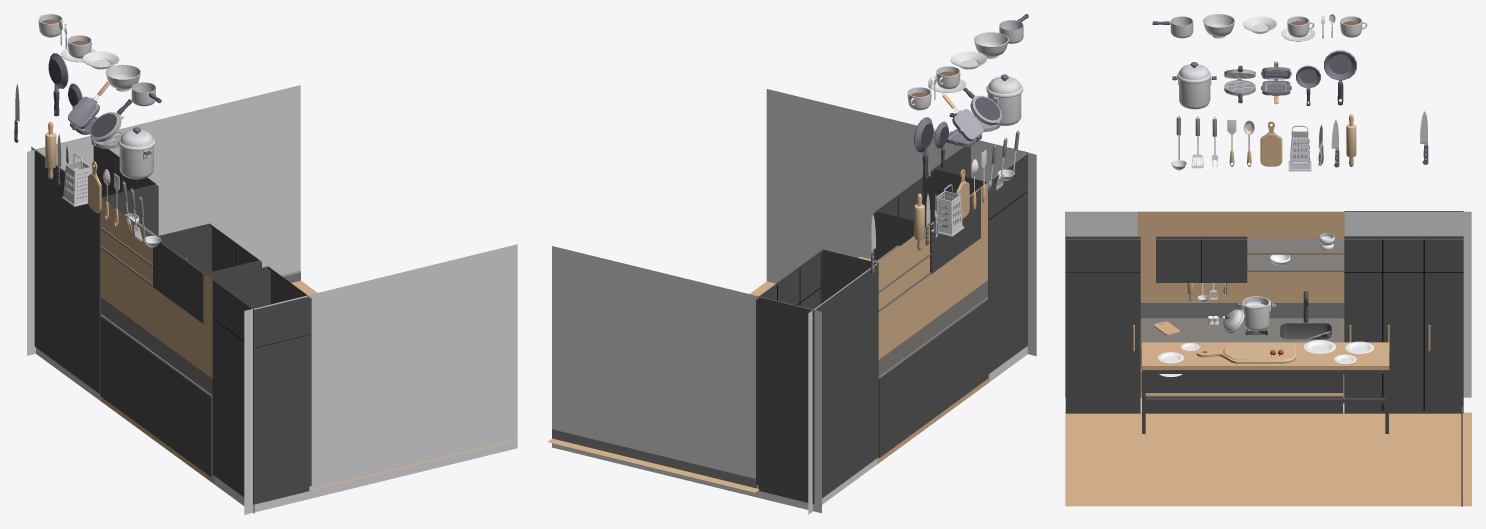
File: kitchen2.glb
3 views of the same model, side by side, from view 1: azimuth 30°, elevation 25°; view 2: azimuth 150°, elevation 25°; view 3: azimuth 270°, elevation 25° (orthographic). The views are drawn at different scales.
Parts seen in each view (by area): view 1: ROOM, fridge, cupboard_big, cupboard_down, cupboard_up, board, grater, pan, baking form top, grill-barbecue top, bowl1, Big frying pan (+3 smaller); view 2: ROOM, cupboard_big, cupboard_down, fridge, cupboard_up, baseboard, board, grater, baking form top, grill-barbecue top, bowl1, a mug1 (+3 smaller); view 3: ROOM, cupboard_big, fridge, cupboard_down, Cube.001, cupboard_up, board, board__0.001, shelf_up, shelf_down, Big frying pan, pan (+12 smaller).
Part boxes in pixels (box(x1,y1,x2,y2)): ROOM: box(27, 85, 518, 514); fridge: box(212, 266, 311, 504); cupboard_big: box(34, 136, 158, 393); cupboard_down: box(100, 314, 212, 476); cupboard_up: box(153, 223, 261, 323); board: box(101, 297, 212, 395); grater: box(61, 153, 91, 206); pan: box(119, 146, 153, 179); baking form top: box(89, 99, 132, 143); grill-barbecue top: box(68, 81, 109, 129); bowl1: box(105, 64, 140, 91); Big frying pan: box(48, 53, 68, 116); ROOM: box(548, 89, 1036, 514); cupboard_big: box(756, 249, 878, 504); cupboard_down: box(878, 297, 988, 457); fridge: box(931, 140, 1027, 373); cupboard_up: box(873, 176, 980, 273); baseboard: box(552, 429, 756, 488); board: box(878, 280, 987, 376); grater: box(931, 184, 964, 236); baking form top: box(963, 87, 1001, 125); grill-barbecue top: box(942, 93, 983, 141); bowl1: box(974, 32, 1008, 58); a mug1: box(931, 66, 966, 92); ROOM: box(1065, 211, 1471, 506); cupboard_big: box(1344, 211, 1463, 413); fridge: box(1065, 236, 1140, 413); cupboard_down: box(1141, 318, 1343, 413); Cube.001: box(1142, 342, 1389, 433); cupboard_up: box(1156, 236, 1247, 282); board: box(1140, 302, 1344, 318); board__0.001: box(1196, 342, 1295, 363); shelf_up: box(1247, 238, 1343, 254); shelf_down: box(1247, 256, 1343, 271); Big frying pan: box(1324, 50, 1356, 105); pan: box(1172, 76, 1216, 109).
Bounding box in the file's own units: 7.26 × 8.36 × 8.5.
